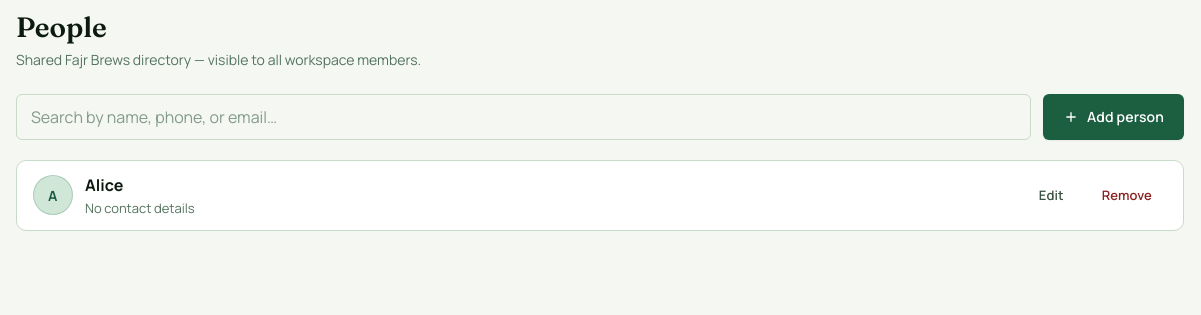
Test: PeoplePage deletion guards (BUG-ORD-09 / BUG-EDGE-05) › attempting to delete a person who is payer of an active order shows the error banner and blocks deletion
Click the button "Remove" at (1127, 195), box left=1087, top=177, right=1167, bottom=213
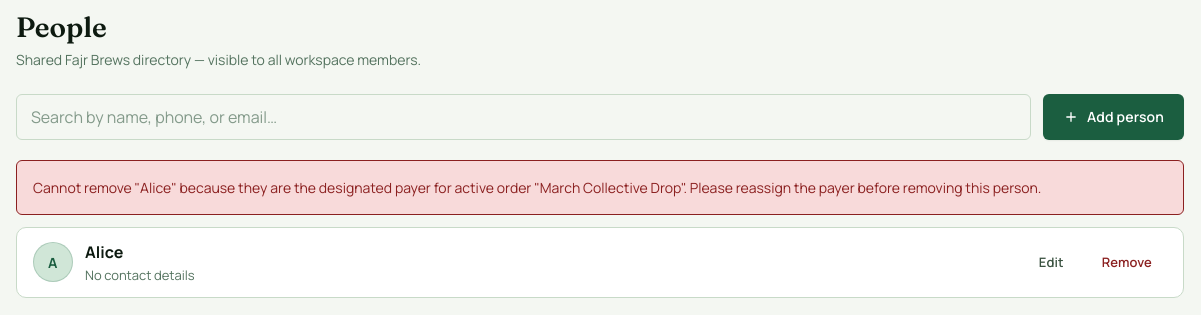
Check: the text with class "alert-error" is shown, box left=16, top=160, right=1184, bottom=215
Check: the text with class "alert-error" shows "Cannot remove \"Alice\" because they are the designated payer for active order \"March Collective Drop\"", box left=33, top=178, right=1041, bottom=197
